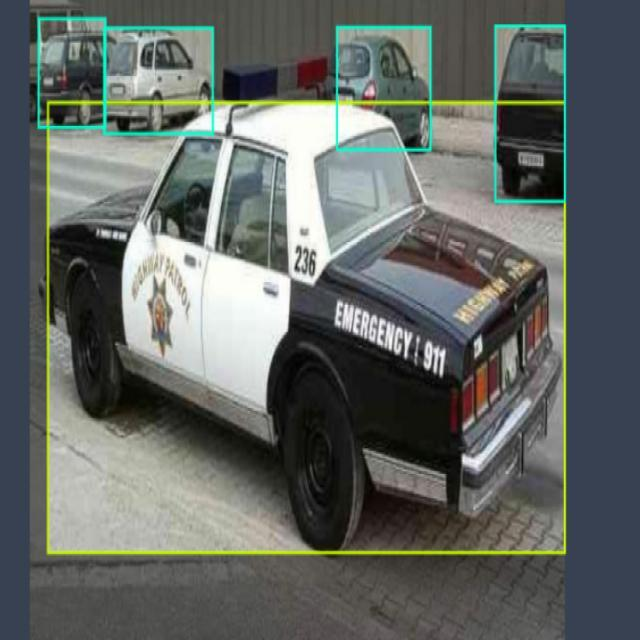police_car: (49, 102, 567, 557)
